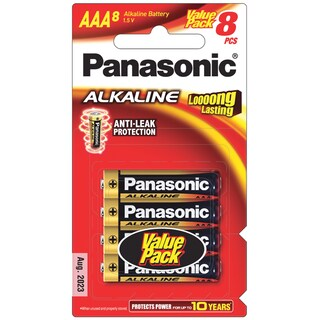Battery: (98, 165, 223, 202), (99, 197, 223, 227)
